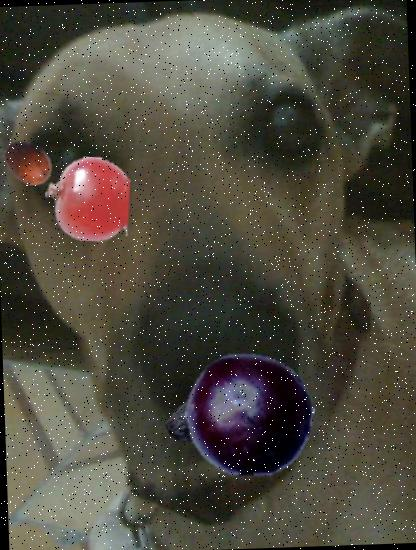Dates: (164, 374, 248, 458)
Nut: (1, 136, 55, 190)
Plum: (183, 348, 318, 482)
Redcurrant: (44, 156, 131, 242)
